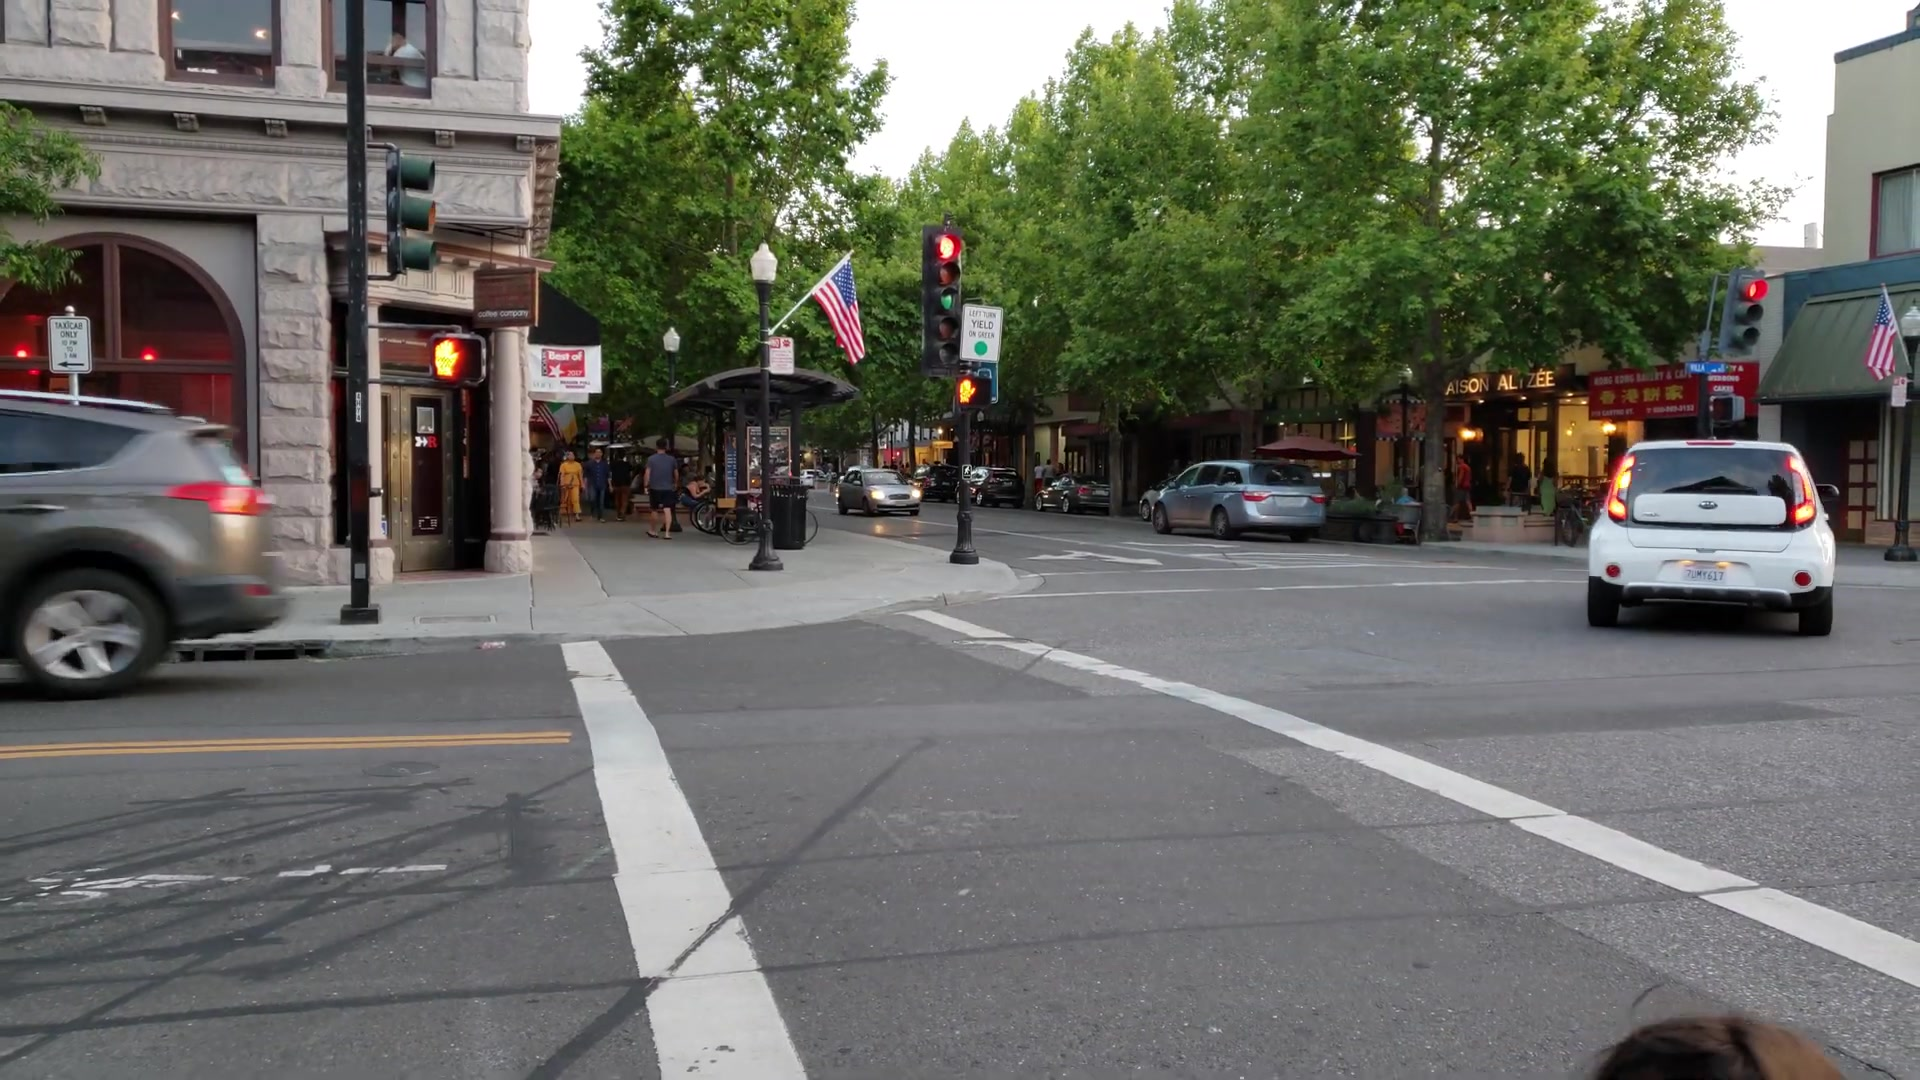vehicle: (1, 388, 274, 702), (1588, 436, 1842, 640), (1153, 459, 1327, 546), (837, 465, 922, 520)
